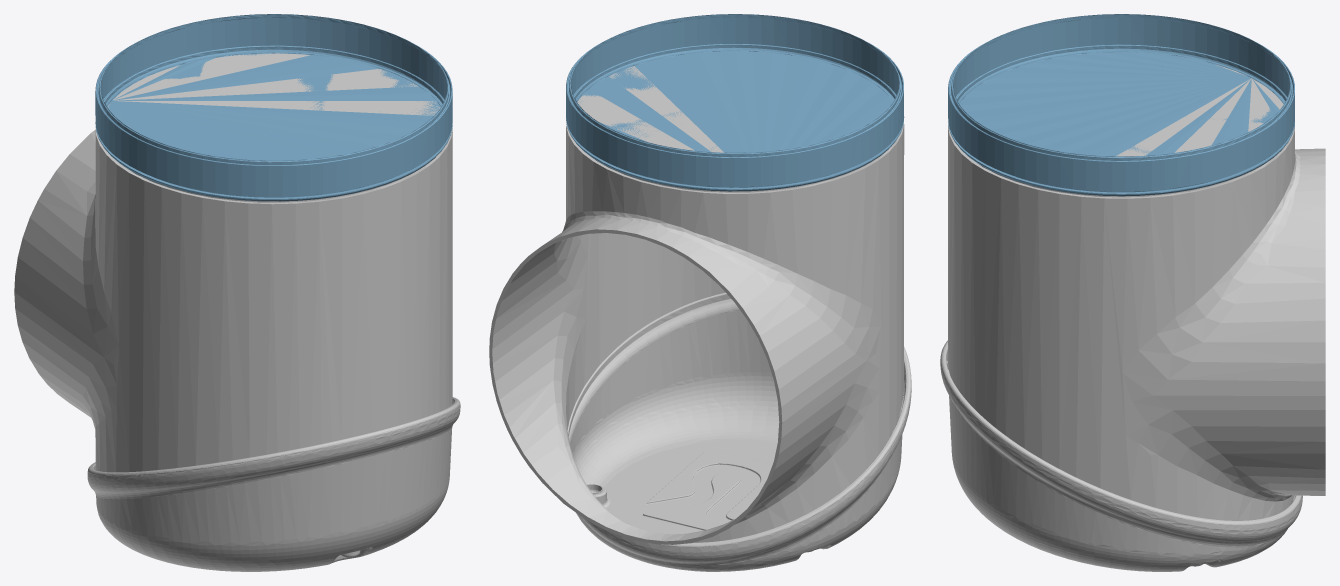
3 renders of one model, left to right at view 1: azimuth 30°, elevation 25°; view 2: azimuth 150°, elevation 25°; view 3: azimuth 270°, elevation 25°, orthographic. The views are drawn at different scales.
Parts seen in each view (by area): view 1: eSeries_UR10e_040-mesh, eSeries_UR10e_063-mesh, eSeries_UR10e_062-mesh; view 2: eSeries_UR10e_040-mesh, eSeries_UR10e_062-mesh, eSeries_UR10e_063-mesh; view 3: eSeries_UR10e_040-mesh, eSeries_UR10e_063-mesh, eSeries_UR10e_062-mesh.
Part boxes in pixels (x1,y1,x2,y2): eSeries_UR10e_040-mesh: [14, 53, 452, 472]; eSeries_UR10e_063-mesh: [95, 14, 452, 201]; eSeries_UR10e_062-mesh: [87, 397, 460, 571]; eSeries_UR10e_040-mesh: [489, 66, 904, 544]; eSeries_UR10e_062-mesh: [567, 292, 911, 571]; eSeries_UR10e_063-mesh: [566, 14, 904, 191]; eSeries_UR10e_040-mesh: [948, 64, 1325, 520]; eSeries_UR10e_063-mesh: [948, 14, 1294, 196]; eSeries_UR10e_062-mesh: [940, 340, 1302, 571].
Size of the model in its own units: 0.094 by 0.1249 by 0.0999.
